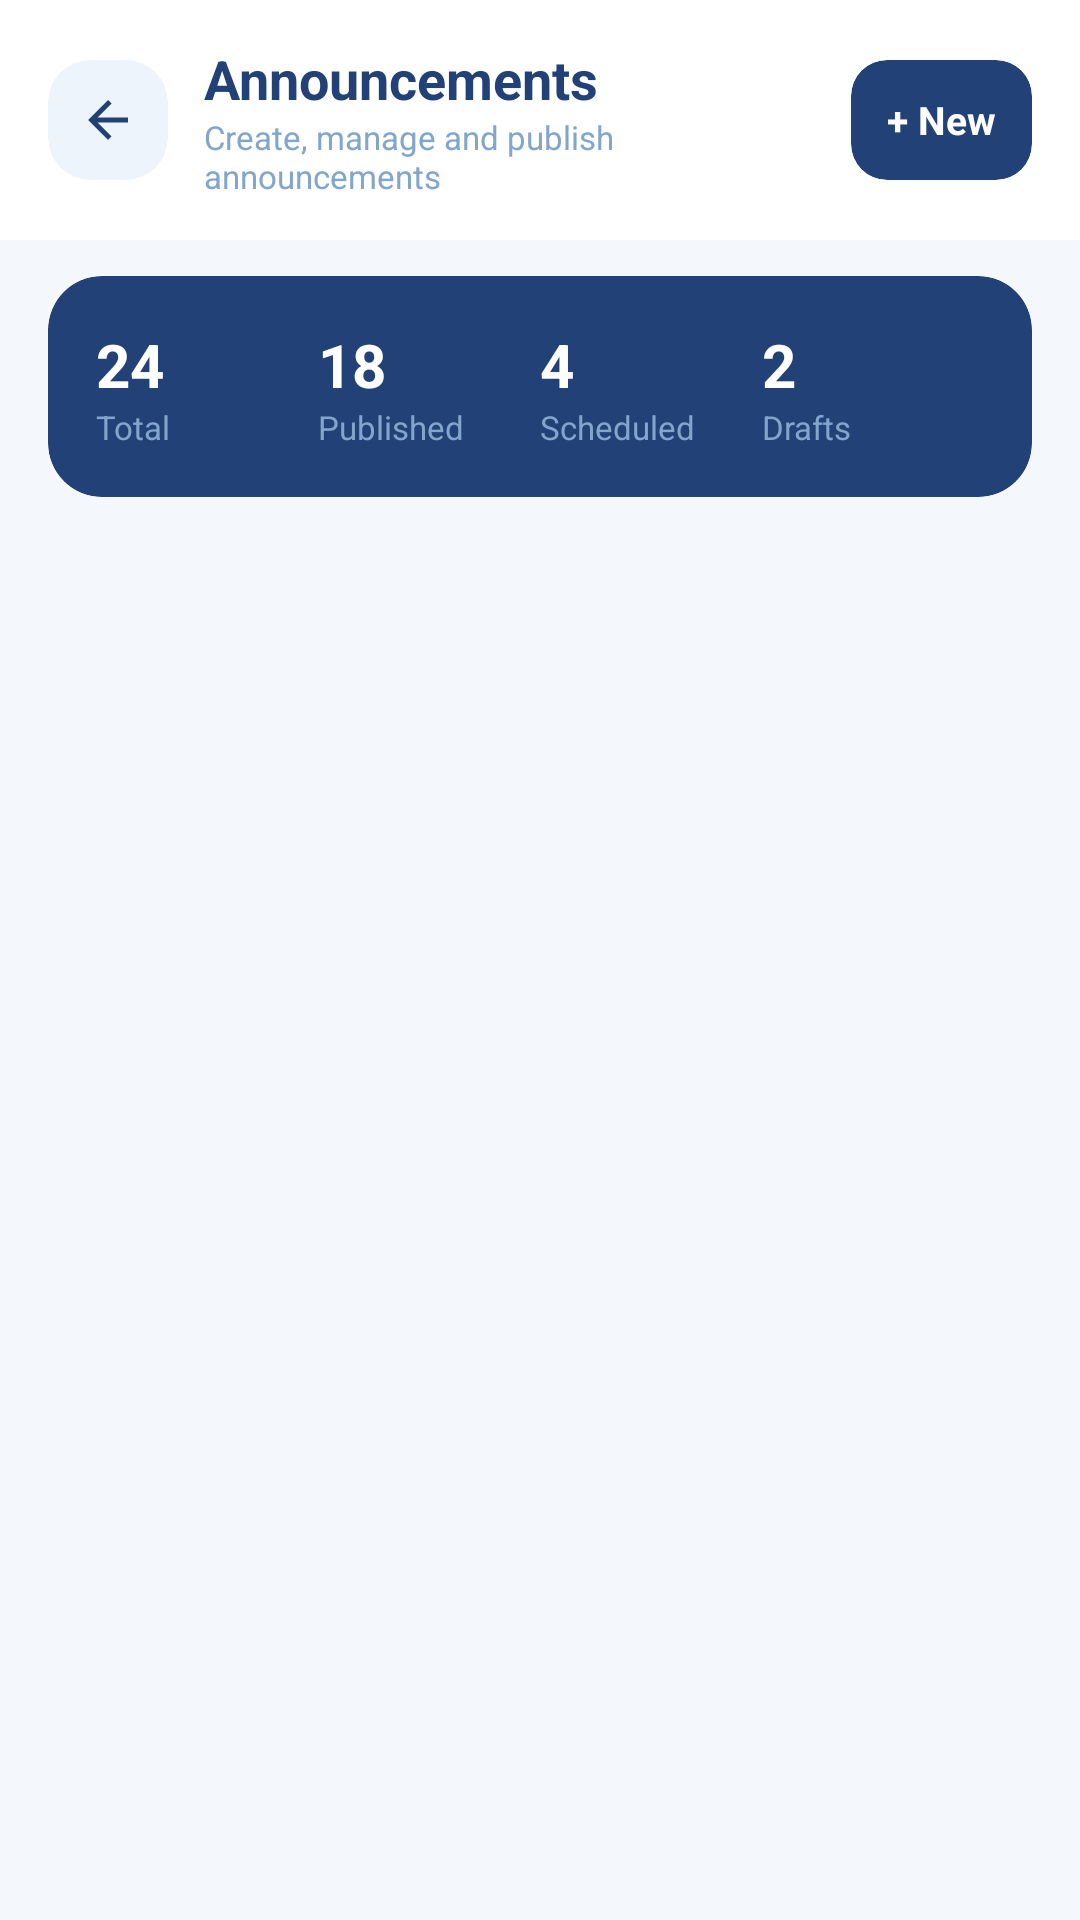

Locate icon controls on the screen. Image size 1080 x 1920, boxes as (x1, y1, x2, y2).
Back: (88, 100, 128, 140)
